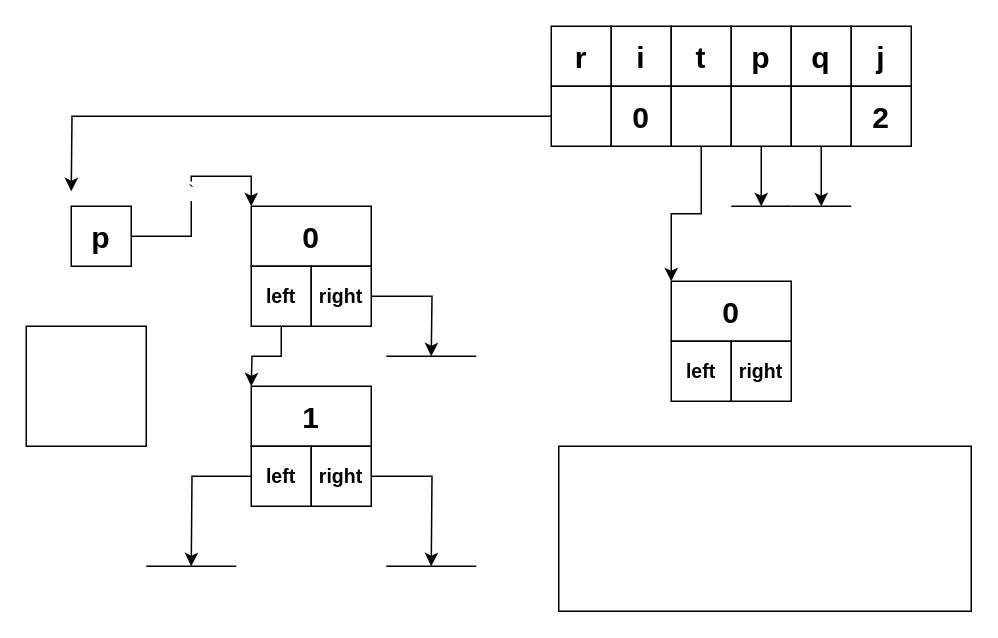
Image size: 998x638. Some labels were removed from this diagram. Each missing label, with the box of its shape:
int i = 2: (25, 325, 146, 446)
NOTE- THIS CODE WILL SEGFAULT BECAUSE IT TRIES TO DEREFERENCE A NULL POINTER: (557, 445, 971, 611)
